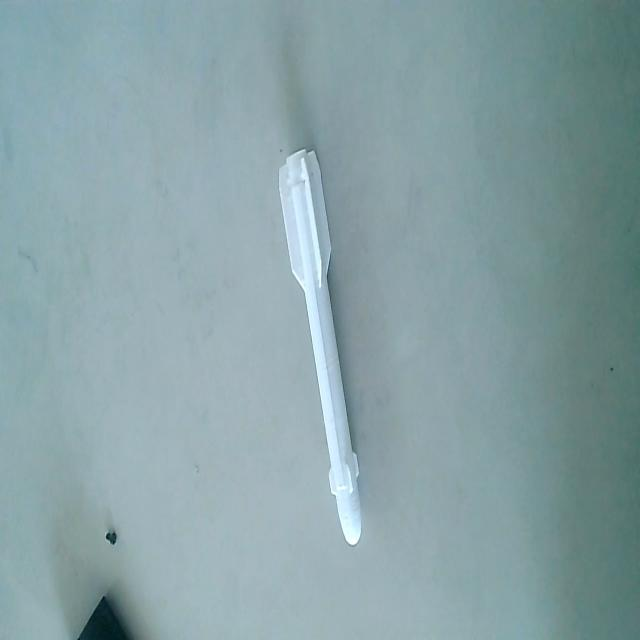Rocket: (278, 136, 366, 547)
